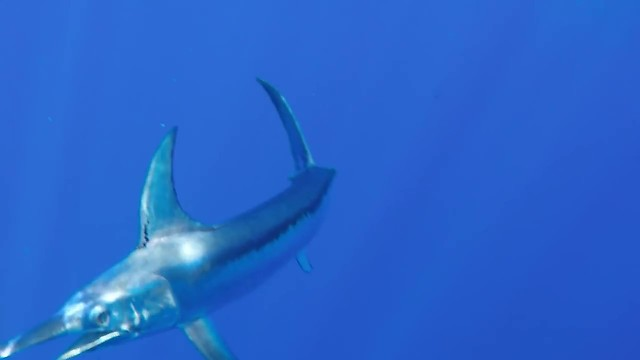swordfish: (1, 71, 326, 354)
